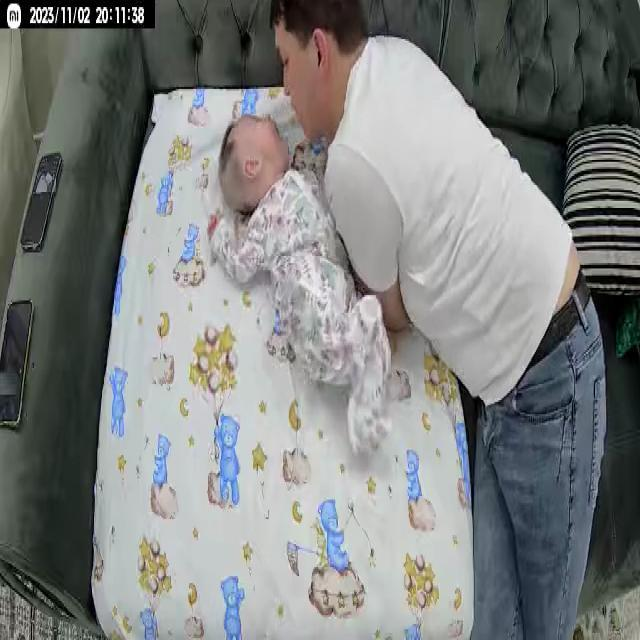baby: (204, 110, 397, 450)
